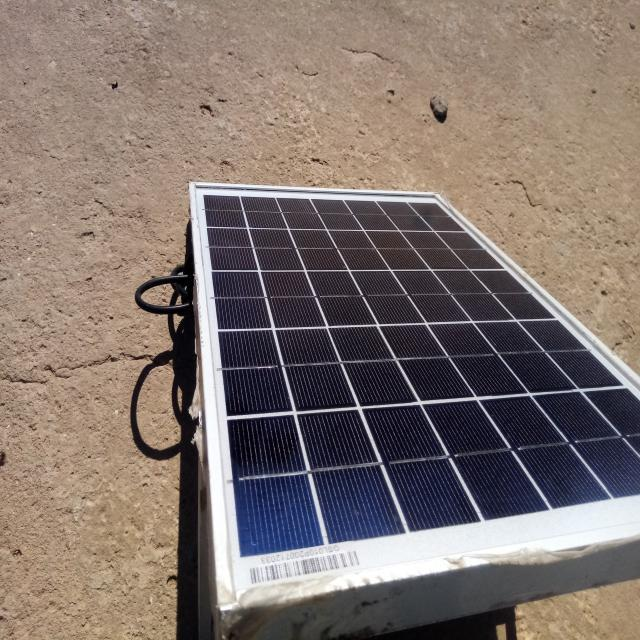no faulty: (192, 189, 640, 607)
